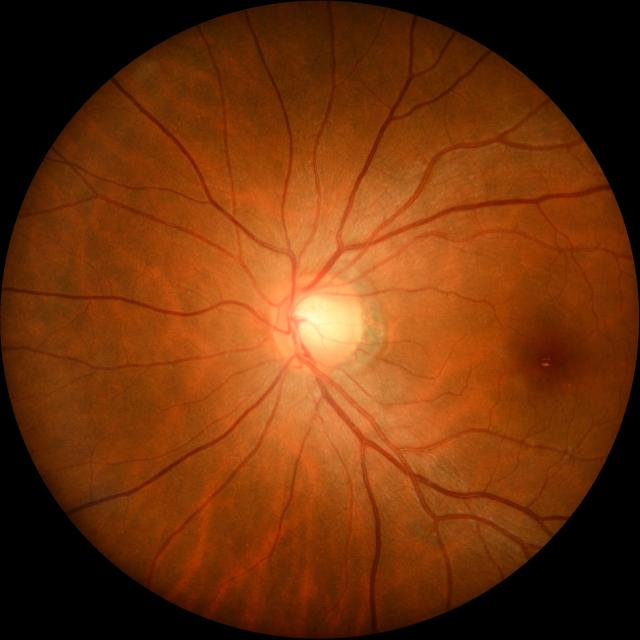OC: (294, 293, 342, 351)
OD: (273, 273, 363, 371)
